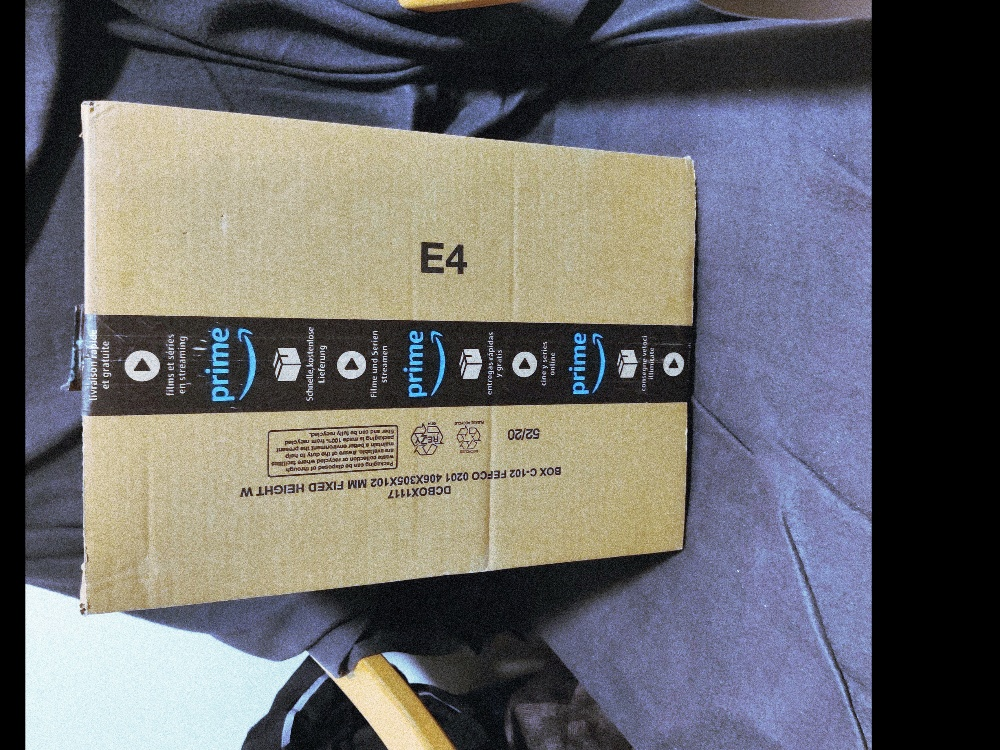good-parcel: (54, 91, 730, 624)
